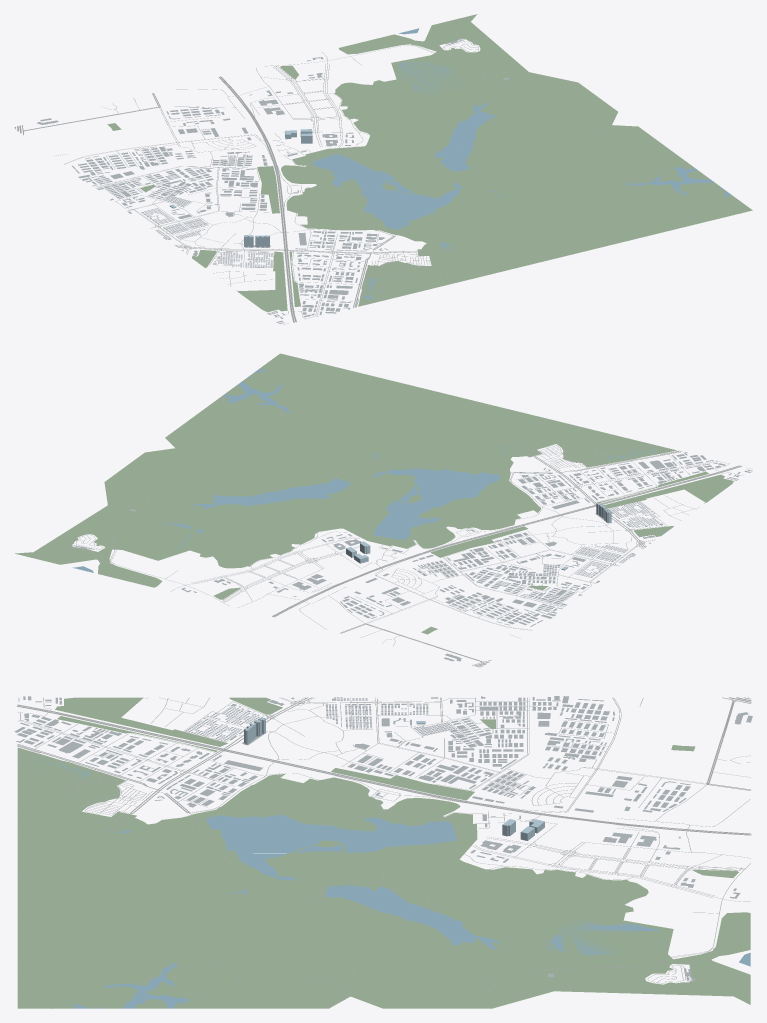
Rendered from overview-known--5_4.glb.
3 views of the same model, one above another, from view 1: azimuth 30°, elevation 25°; view 2: azimuth 150°, elevation 25°; view 3: azimuth 270°, elevation 25° (orthographic). The views are drawn at different scales.
Bounding box in the file's own units: 4019 × 84.57 × 4012.
